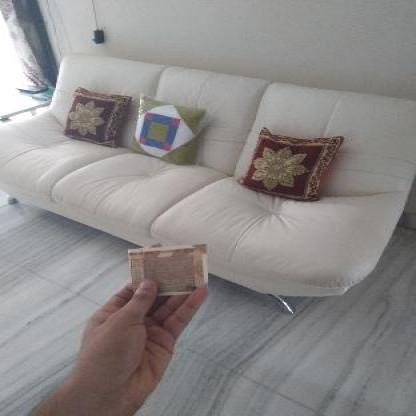New10Back: (132, 249, 208, 294)
